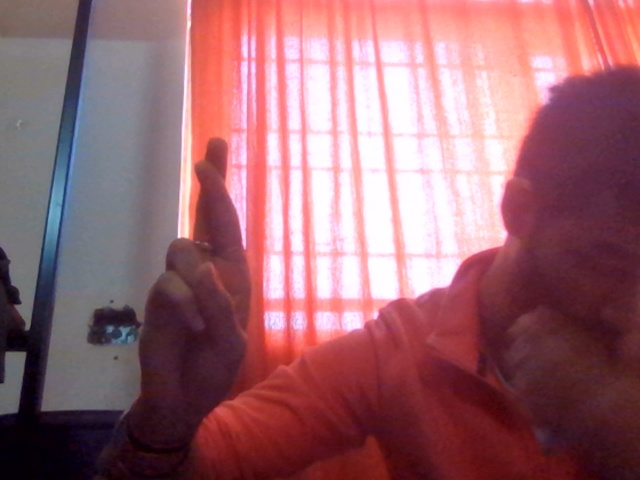R: (113, 110, 294, 437)
